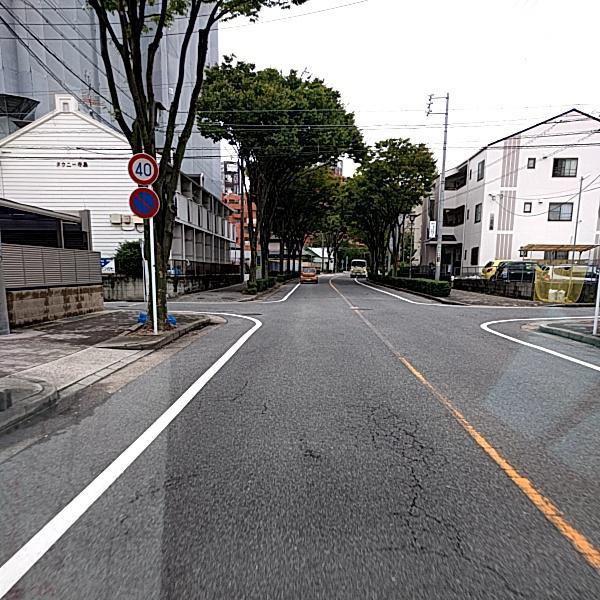D00: (127, 455, 208, 512)
D20: (358, 391, 508, 591)
D44: (346, 302, 599, 592)
